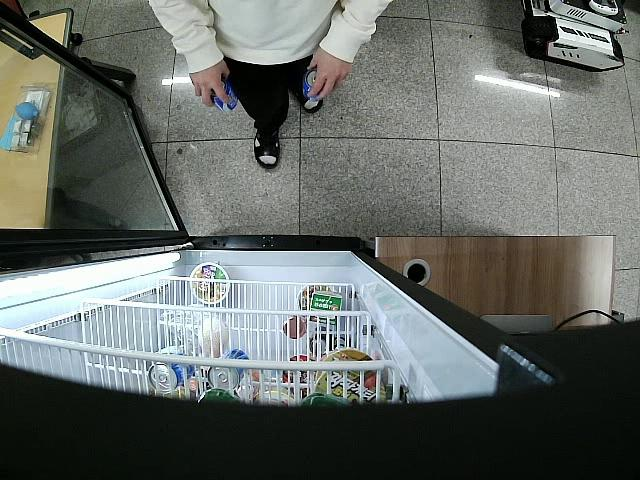00_hand: (308, 47, 349, 103), (191, 62, 232, 106)
13_pocariSweat: (213, 80, 238, 113), (304, 69, 327, 103)
